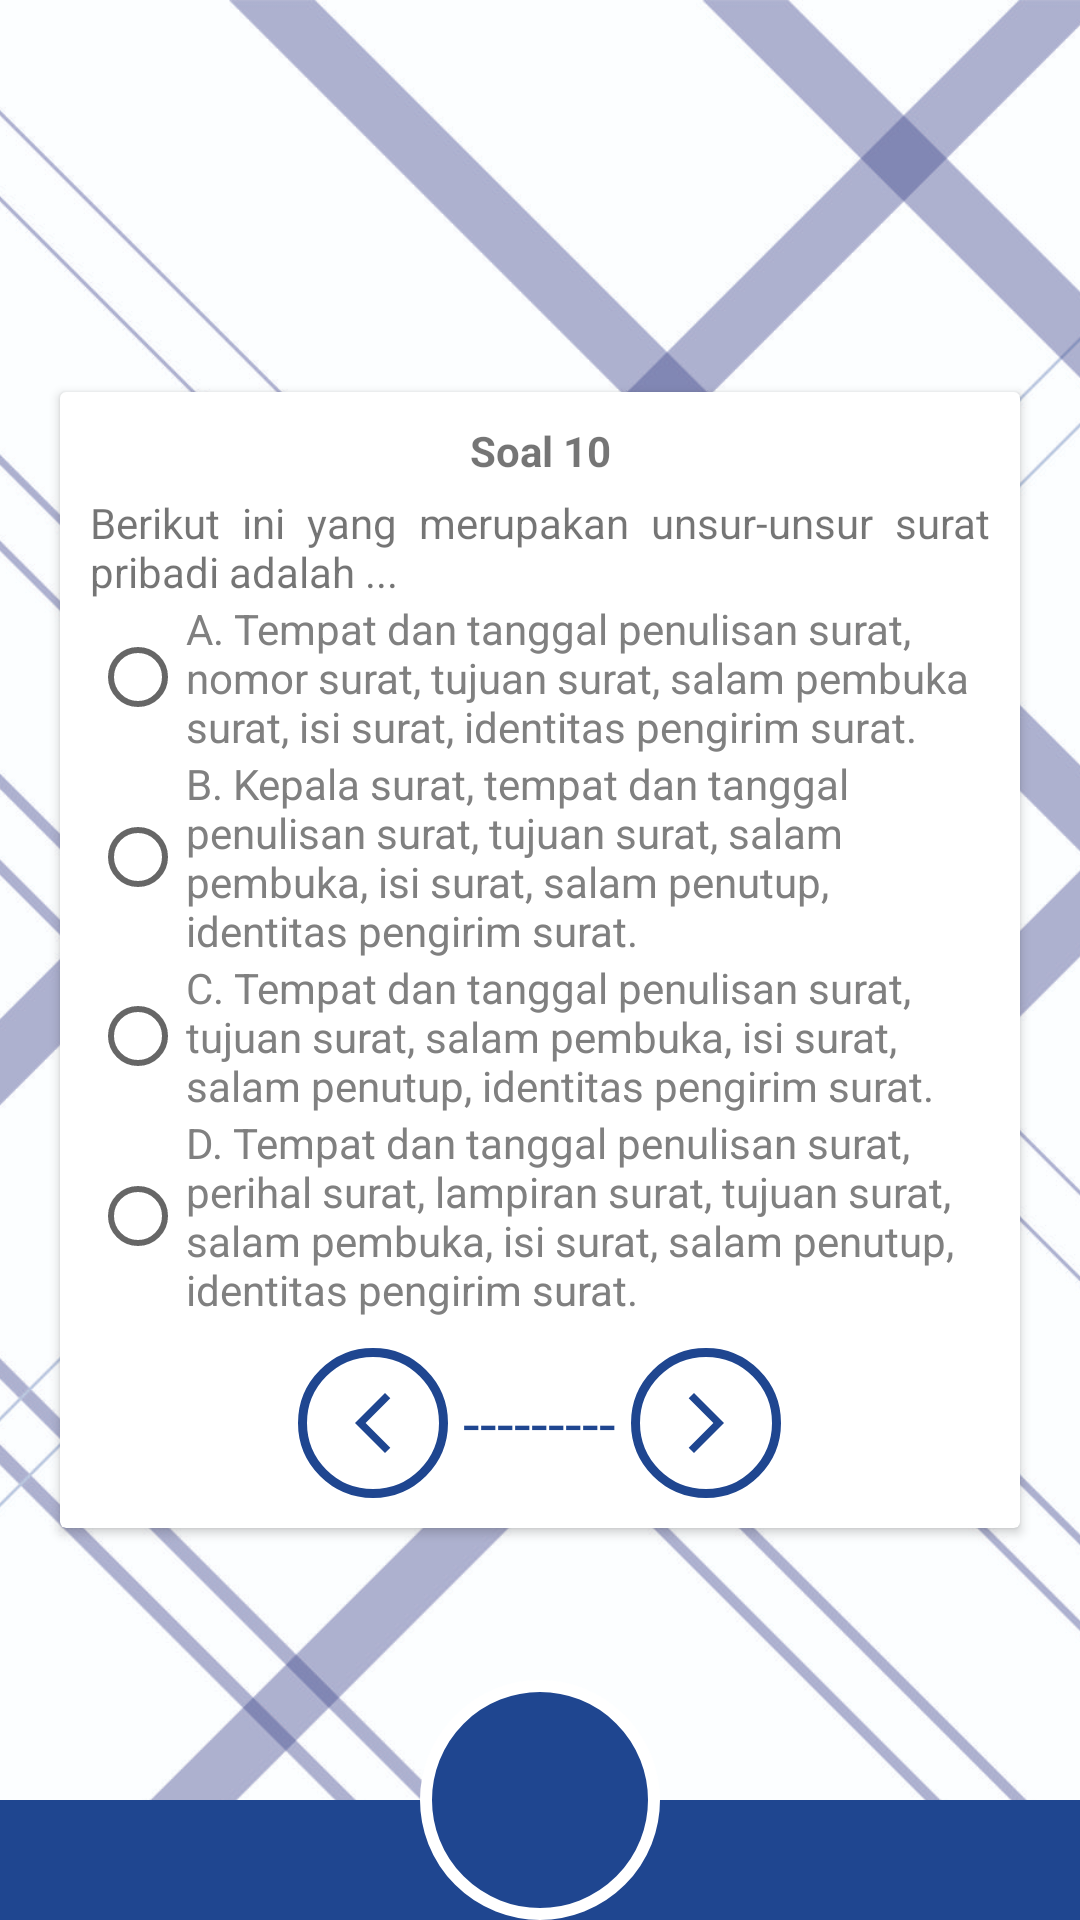

Named icons in this screenshot (1080*1920) and their bounding boxes, (x1, y1, x2, y2):
arrow back: (298, 1348, 448, 1498)
arrow forward: (631, 1348, 781, 1498)
